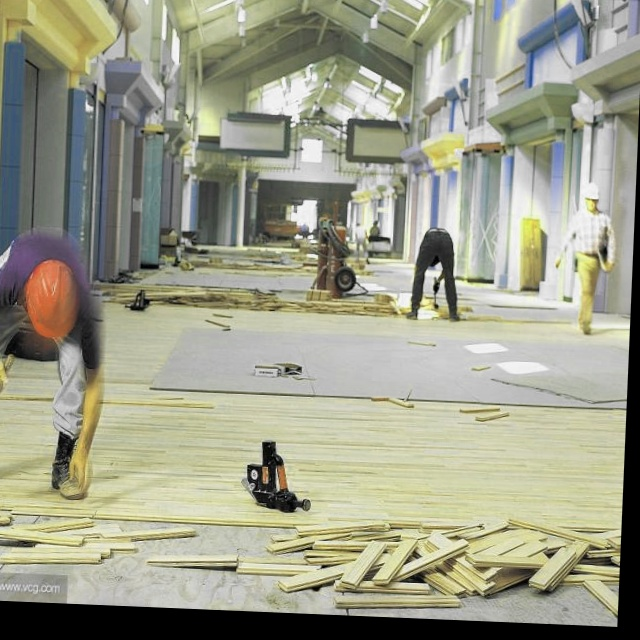Con_Casco: (23, 257, 82, 341)
Sin_Chaleco: (572, 207, 614, 269)
